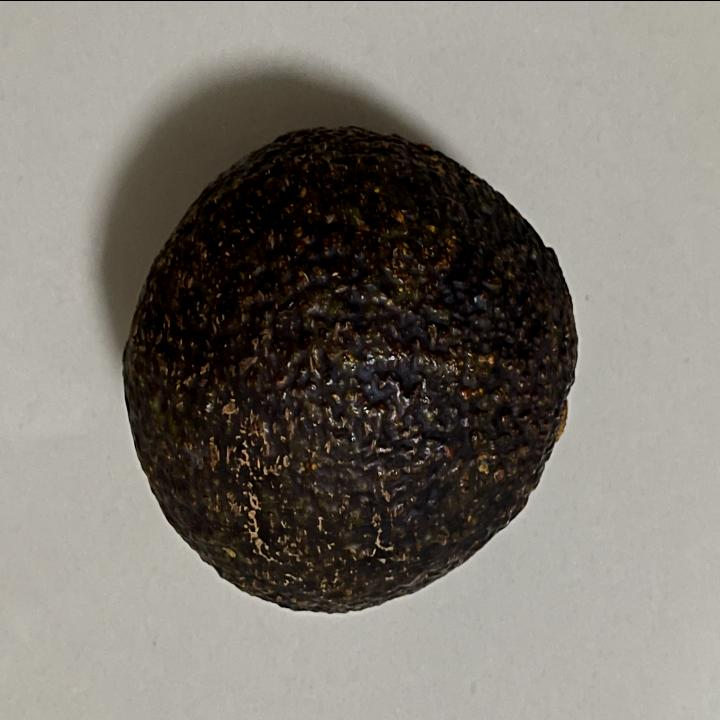Level2: (117, 116, 590, 622)
